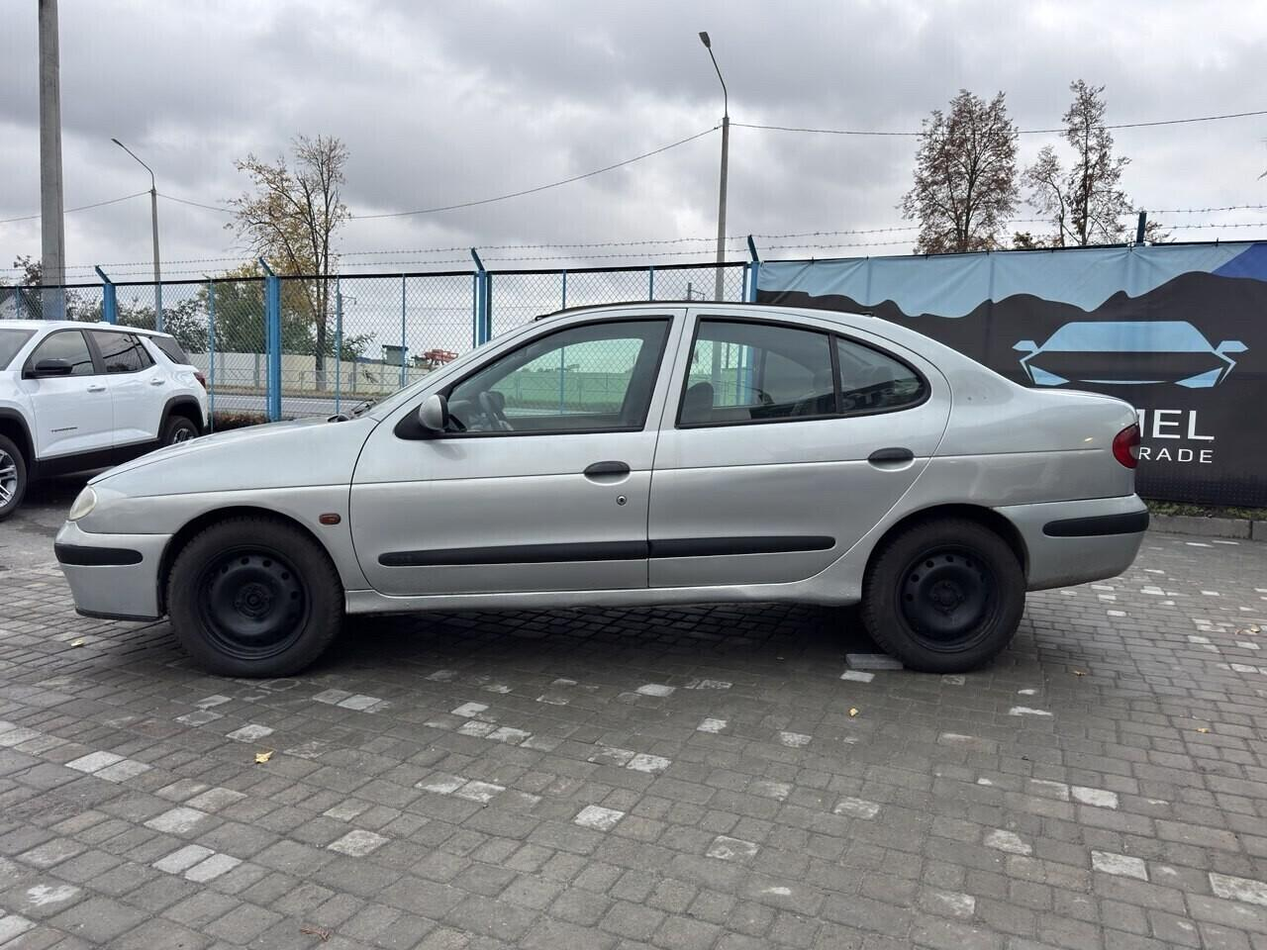Megane_1999-2003: (61, 303, 1153, 684)
